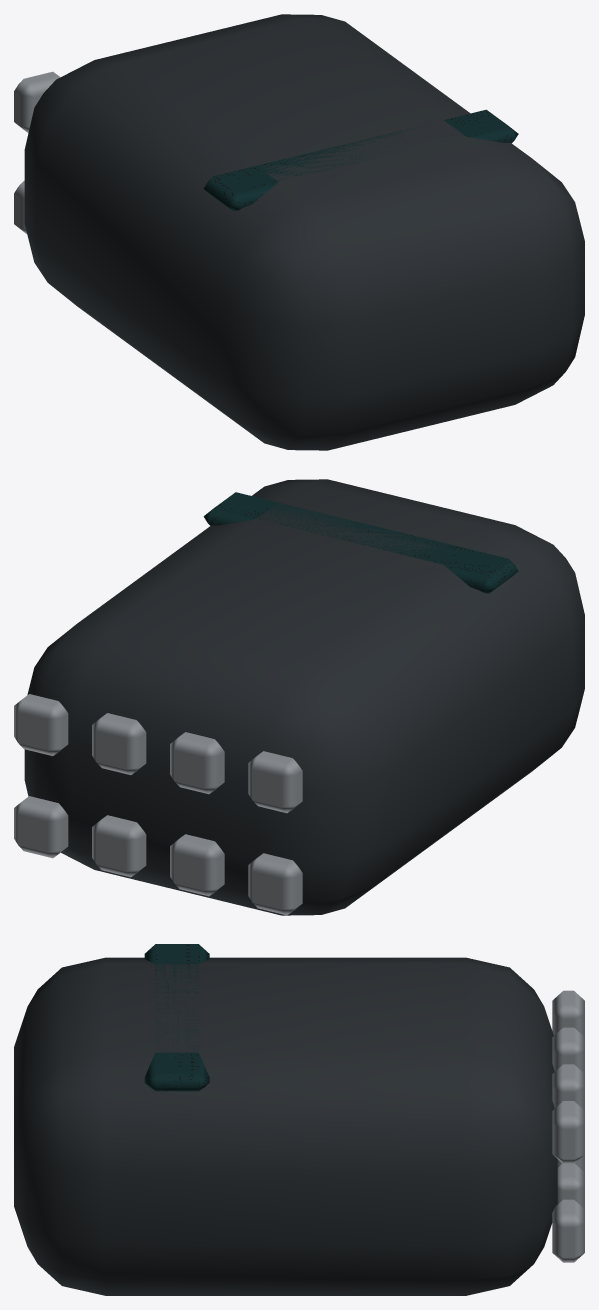
Rendered from Utility_Flares.fbx.
3 renders of one model, top to bottom at view 1: azimuth 30°, elevation 25°; view 2: azimuth 150°, elevation 25°; view 3: azimuth 270°, elevation 25°, orthographic. The views are drawn at different scales.
Visible parts, largest first — view 1: Utility_Flares; view 2: Utility_Flares; view 3: Utility_Flares.
Part boxes in pixels (bbox=[...]): Utility_Flares: bbox=[14, 14, 584, 450]; Utility_Flares: bbox=[14, 479, 584, 915]; Utility_Flares: bbox=[14, 944, 584, 1295].
Bounding box in the file's own units: 0.36 × 0.24 × 0.525.
